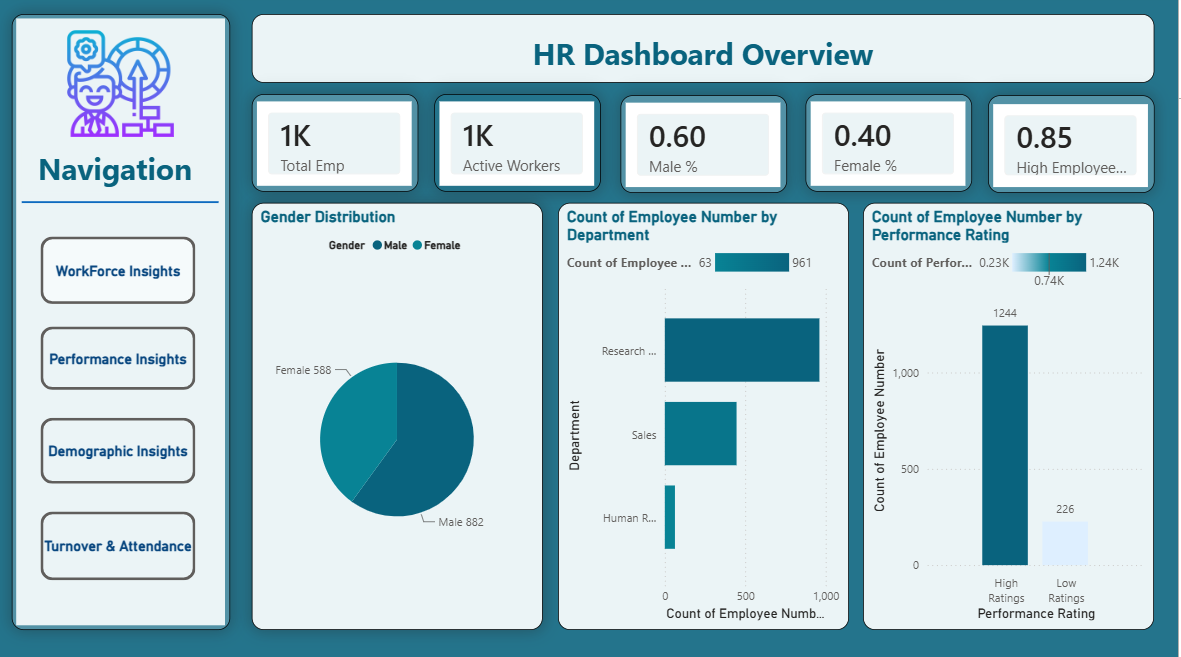

The dashboard page shown, as its layout file describes it:
{"tool":"powerbi","page":{"name":"overview","canvas":[1280,720],"ordinal":1},"visuals":[{"type":"shape","box":[20.4,21.8,236,665.6],"z":0},{"type":"textbox","box":[31.1,162.1,201.2,52.7],"z":1000},{"type":"shape","box":[30.6,187.9,212.7,74.3],"z":2000},{"type":"textbox","box":[279.6,21.6,975.1,74.3],"z":3000},{"type":"actionButton","box":[51,262.2,167.5,72.8],"z":4000},{"type":"actionButton","box":[51,359.8,167.5,68.5],"z":5000},{"type":"actionButton","box":[51,457.4,167.5,71.4],"z":6000},{"type":"actionButton","box":[51,559.3,167.5,74.3],"z":7000},{"type":"image","box":[55.3,39.3,164.6,115.1],"z":8000},{"type":"cardVisual","fields":{"Data":["HR Measures.Total Emp"]},"box":[279.6,108,179.6,105.3],"z":9000},{"type":"cardVisual","fields":{"Data":["HR Measures.Active Workers"]},"box":[476.7,108,179.6,105.3],"z":10000},{"type":"cardVisual","fields":{"Data":["HR Measures.Female %"]},"box":[877.8,108,179.6,105.3],"z":11000},{"type":"cardVisual","fields":{"Data":["HR Measures.Male %"]},"box":[678,109.4,179.6,105.3],"z":12000},{"type":"cardVisual","fields":{"Data":["HR Measures.High Employee Rating %"]},"box":[1075,109.4,179.6,105.3],"z":13000},{"type":"pieChart","title":"Gender Distribution","fields":{"Category":["HR Analytics Data.Gender"],"Y":["CountNonNull(HR Analytics Data.Gender)"]},"box":[279.7,225.8,314.6,461.7],"z":14000},{"type":"clusteredBarChart","fields":{"Y":["CountNonNull(HR employee data.Employee Number)"],"Category":["HR Analytics Data.Department"]},"box":[610.3,225.8,314.6,461.7],"z":15000},{"type":"clusteredColumnChart","fields":{"Category":["HR Analytics Data.Performance Rating"],"Y":["CountNonNull(HR employee data.Employee Number)"]},"box":[939.5,225.8,314.6,461.7],"z":16000}]}

Visuals, with their boxes in screenshot pixels (x1, y1, x2, y2), scaled from the page's 1280x720 canvas onto the 1181x657 screenshot:
shape: [19, 20, 237, 627]
textbox: [29, 148, 214, 196]
shape: [28, 171, 224, 239]
textbox: [258, 20, 1158, 88]
actionButton: [47, 239, 202, 306]
actionButton: [47, 328, 202, 391]
actionButton: [47, 417, 202, 483]
actionButton: [47, 510, 202, 578]
image: [51, 36, 203, 141]
cardVisual - HR Measures.Total Emp: [258, 99, 424, 195]
cardVisual - HR Measures.Active Workers: [440, 99, 606, 195]
cardVisual - HR Measures.Female %: [810, 99, 976, 195]
cardVisual - HR Measures.Male %: [626, 100, 791, 196]
cardVisual - HR Measures.High Employee Rating %: [992, 100, 1158, 196]
"Gender Distribution" pieChart: [258, 206, 548, 627]
clusteredBarChart - CountNonNull(HR employee data.Employee Number) x HR Analytics Data.Department: [563, 206, 853, 627]
clusteredColumnChart - HR Analytics Data.Performance Rating x CountNonNull(HR employee data.Employee Number): [867, 206, 1157, 627]
